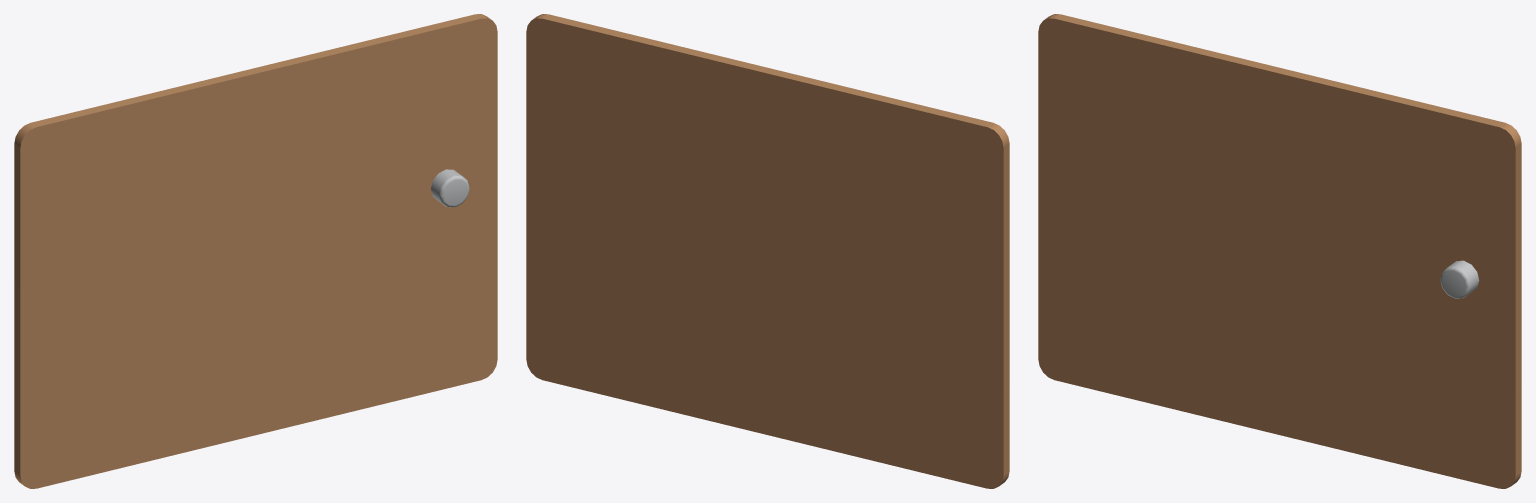
Rendered from door.fbx.
3 views of the same model, side by side, from view 1: azimuth 30°, elevation 25°; view 2: azimuth 150°, elevation 25°; view 3: azimuth 330°, elevation 25° (orthographic).
Parts seen in each view (by area): view 1: door; view 2: door; view 3: door.
Part boxes in pixels (left/top/right/bottom): door: left=14, top=14, right=497, bottom=488; door: left=526, top=14, right=1009, bottom=488; door: left=1038, top=14, right=1521, bottom=488.
Size of the model in its own units: 52.48 by 37.99 by 3.02.
